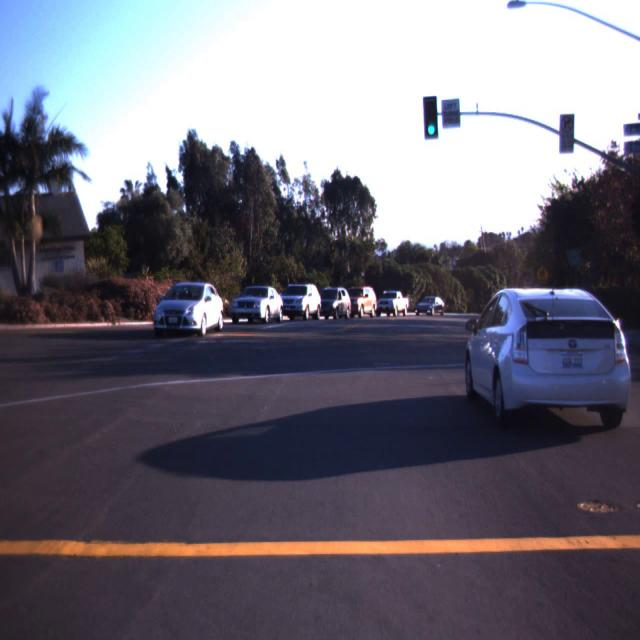yesil: (423, 96, 438, 139)
